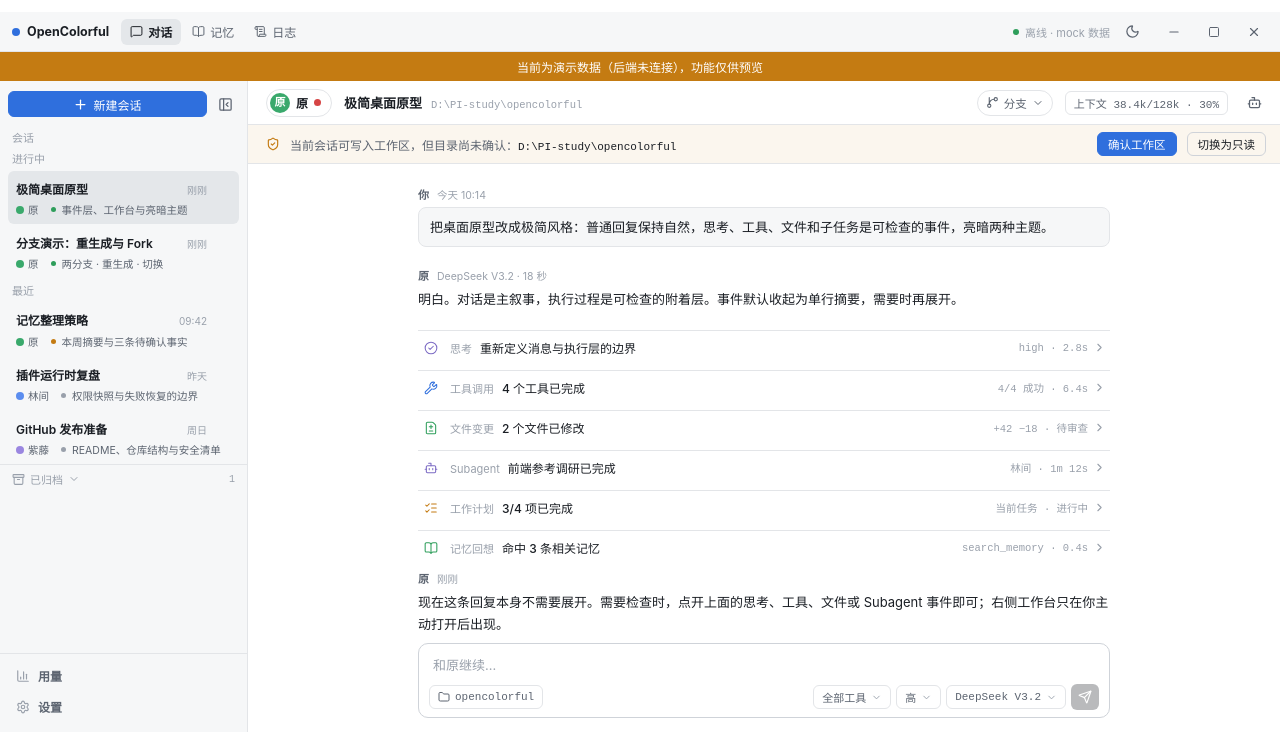
Test: MOCK-GATE-02: Subagent Dock 经唯一入口打开且功能不受影响
The image size is (1280, 732).
Check: the text "当前为演示数据（后端未连接），功能仅供预览" is shown, box [0,52,1279,81]
What coordinates should you click on to do the following:
click the button named "Subagent"
I would click on:
 (1254, 102)
Its box is [1240,90,1268,116].
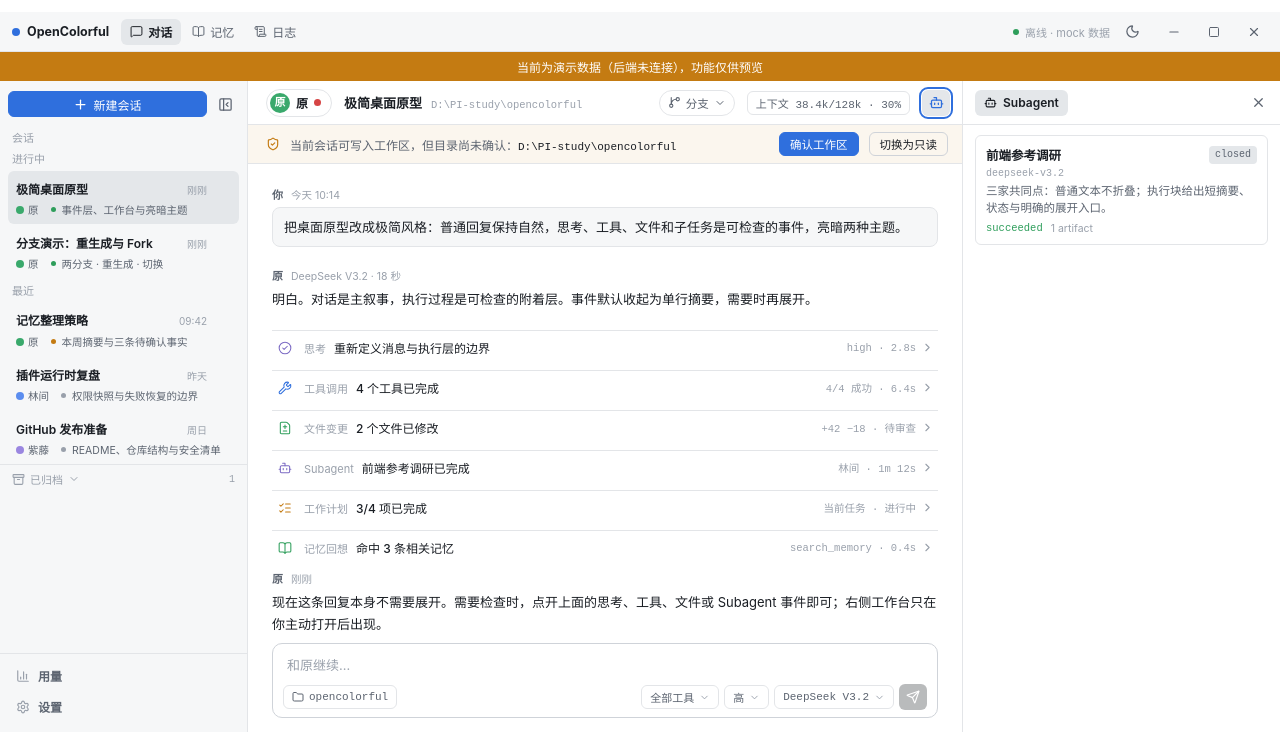
Check: the text "closed" is shown, box [1209,146,1257,164]
